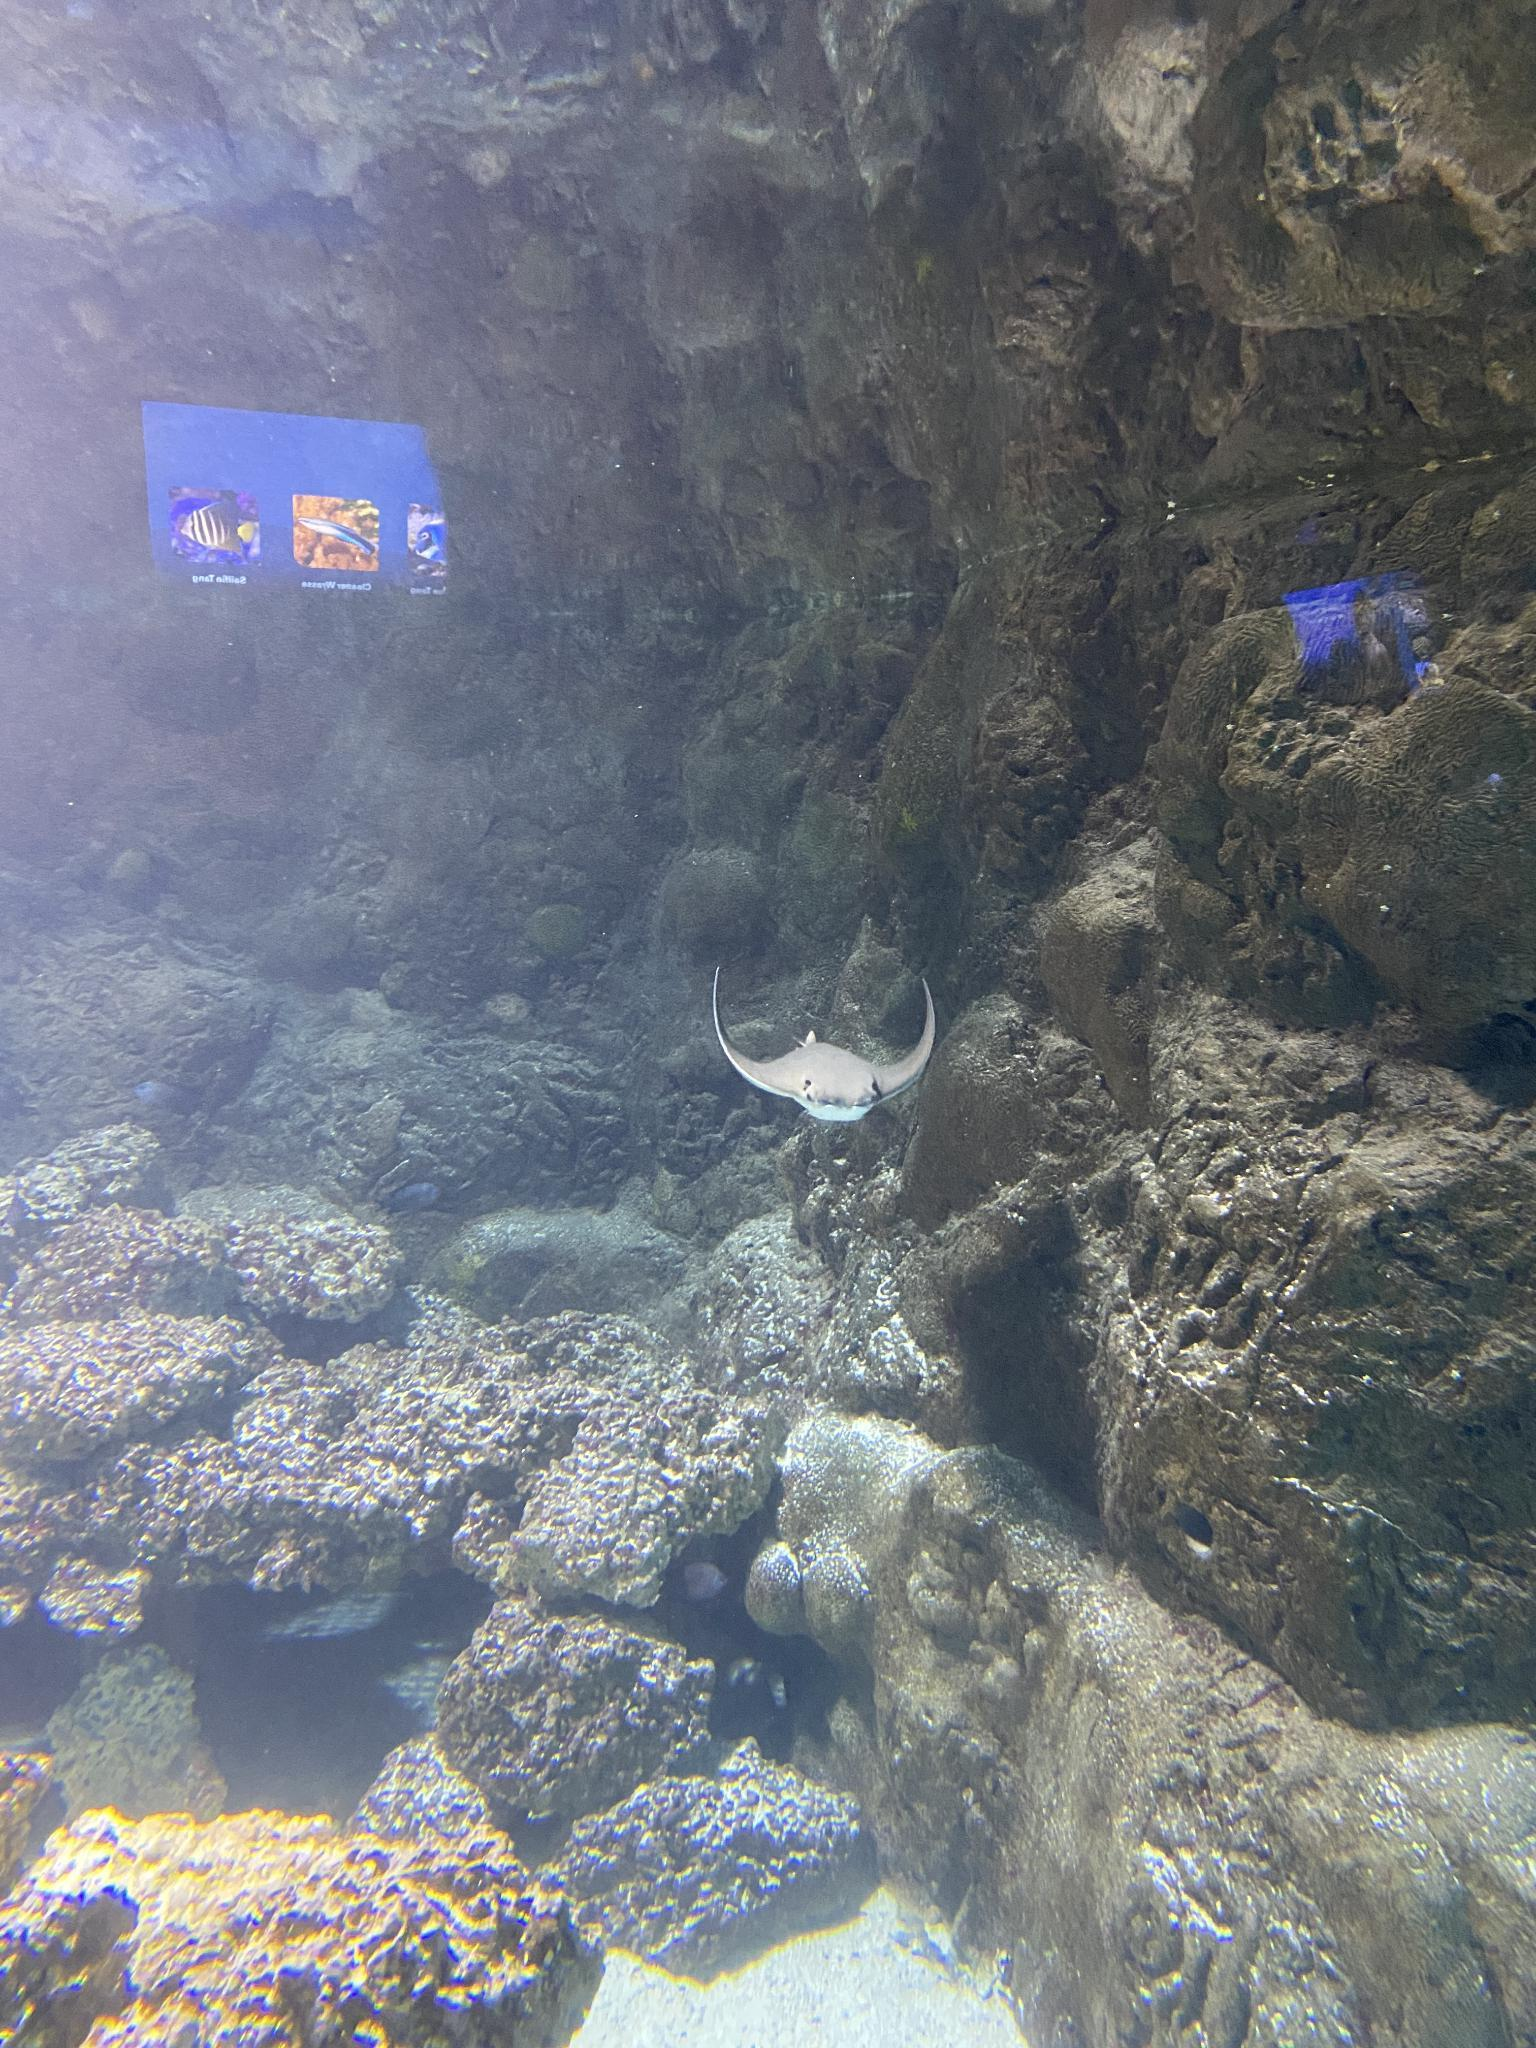stingray: (707, 969, 939, 1122)
